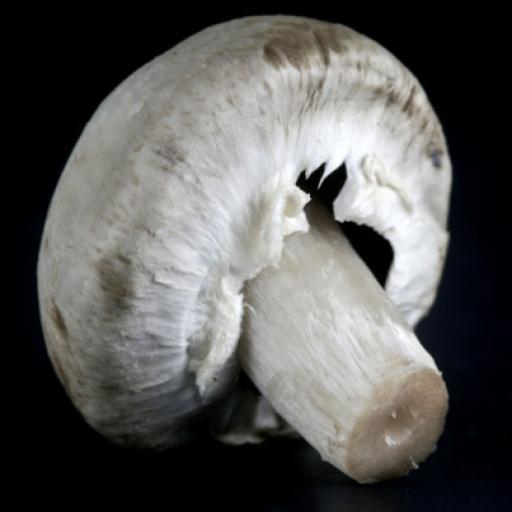mushroom: (32, 9, 466, 495)
